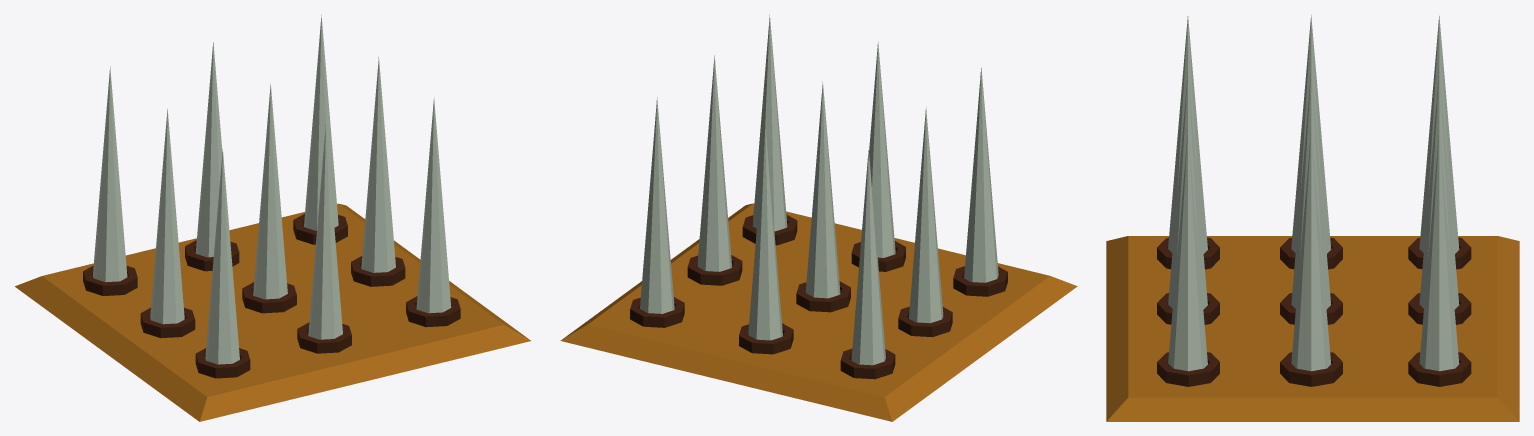
Rendered from spike_trap.FBX.
The picture shows the model from 3 angles, left to right: view 1: azimuth 30°, elevation 25°; view 2: azimuth 150°, elevation 25°; view 3: azimuth 270°, elevation 25°; orthographic projection. The views are drawn at different scales.
Visible parts, largest first — view 1: Box001; view 2: Box001; view 3: Box001.
Part boxes in pixels (x1,y1,x2,y2): Box001: (14, 14, 530, 421); Box001: (560, 14, 1077, 421); Box001: (1106, 15, 1519, 421).
Size of the model in its own units: 45.06 by 30.18 by 43.53.
